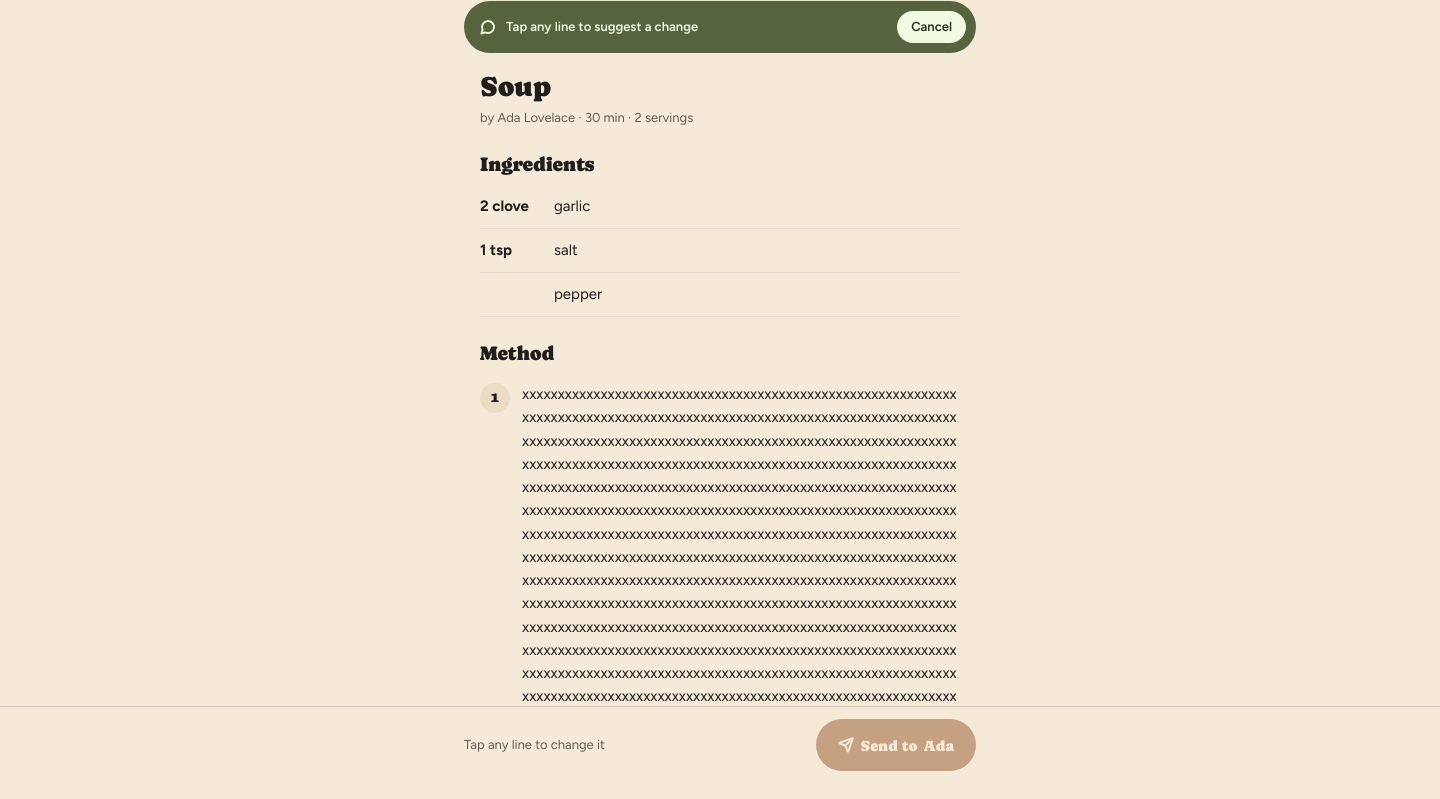
Test: SuggestMode › blocks Send with a reason for a step too long to suggest on
The width and height of the screenshot is (1440, 799).
Click the 5th button at point(720, 581), box x1=480 y1=374 x2=960 y2=788
(page scrolled)
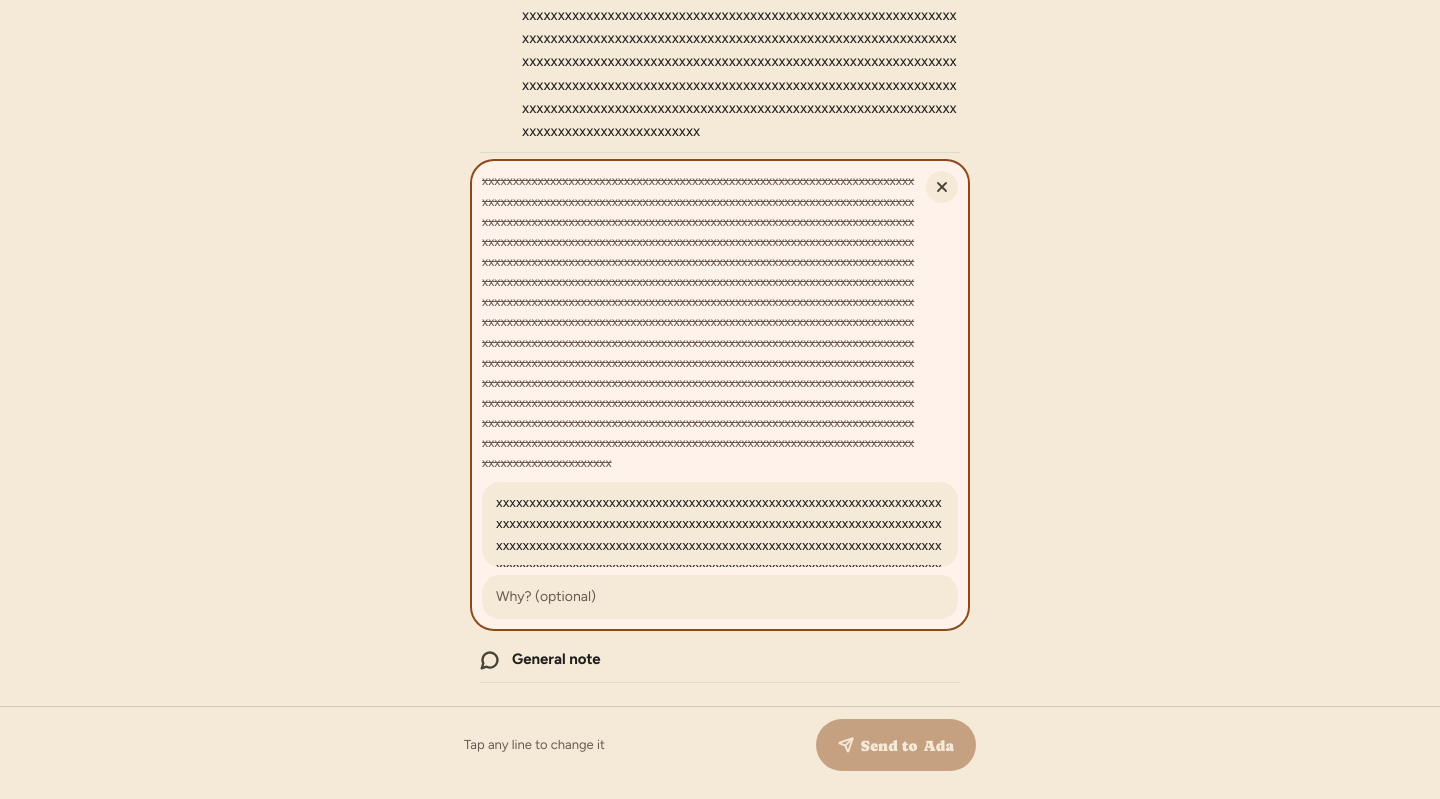
Replace the text in the text box named "New step text" with "Short" at point(720, 524), box x1=482 y1=482 x2=958 y2=567
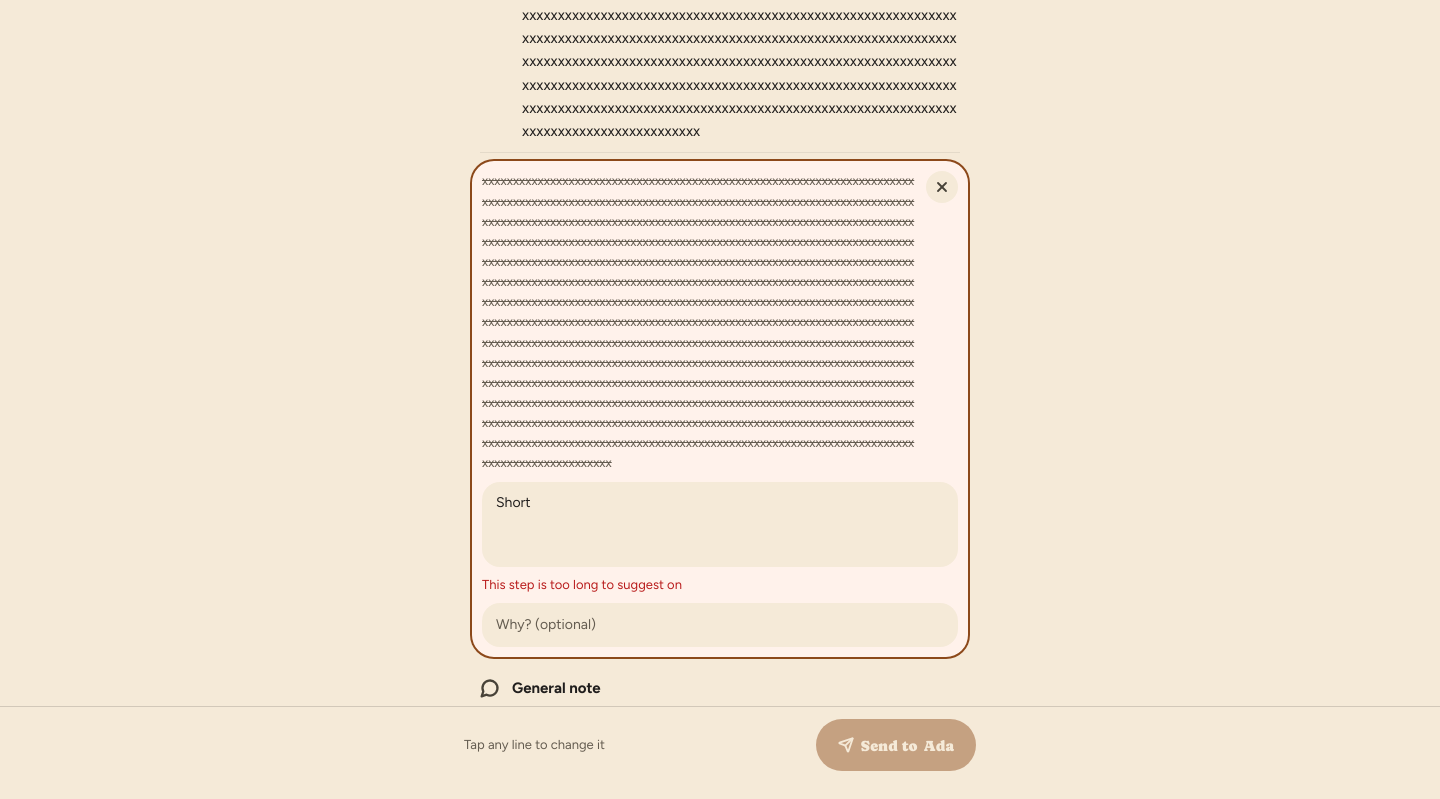
Expected: the button "Send to Ada" is disabled, x1=816 y1=719 x2=976 y2=771
Expected: the message reads "This step is too long to suggest on", x1=482 y1=577 x2=682 y2=592
